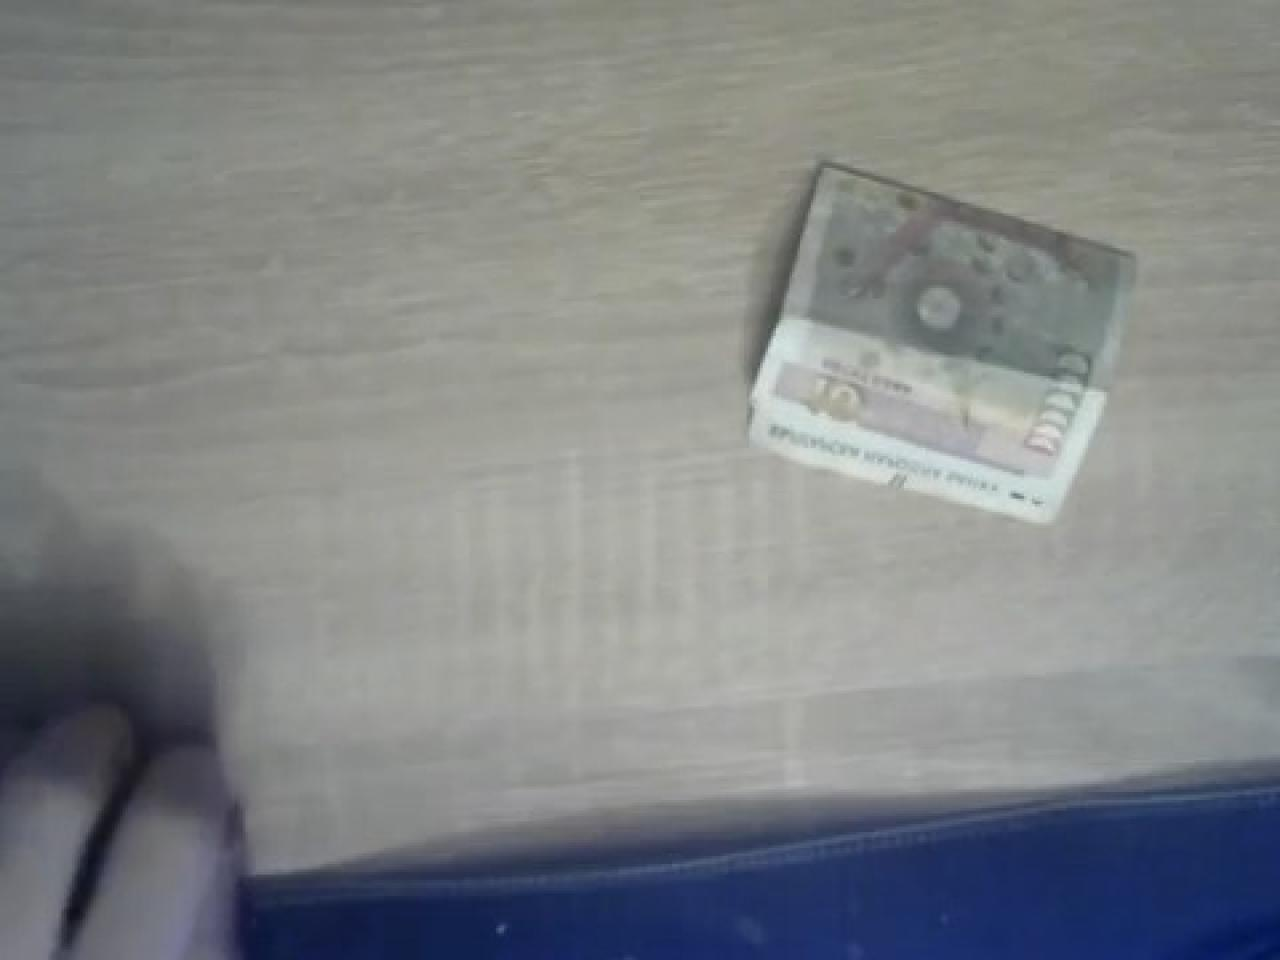10leva: (741, 162, 1139, 528)
